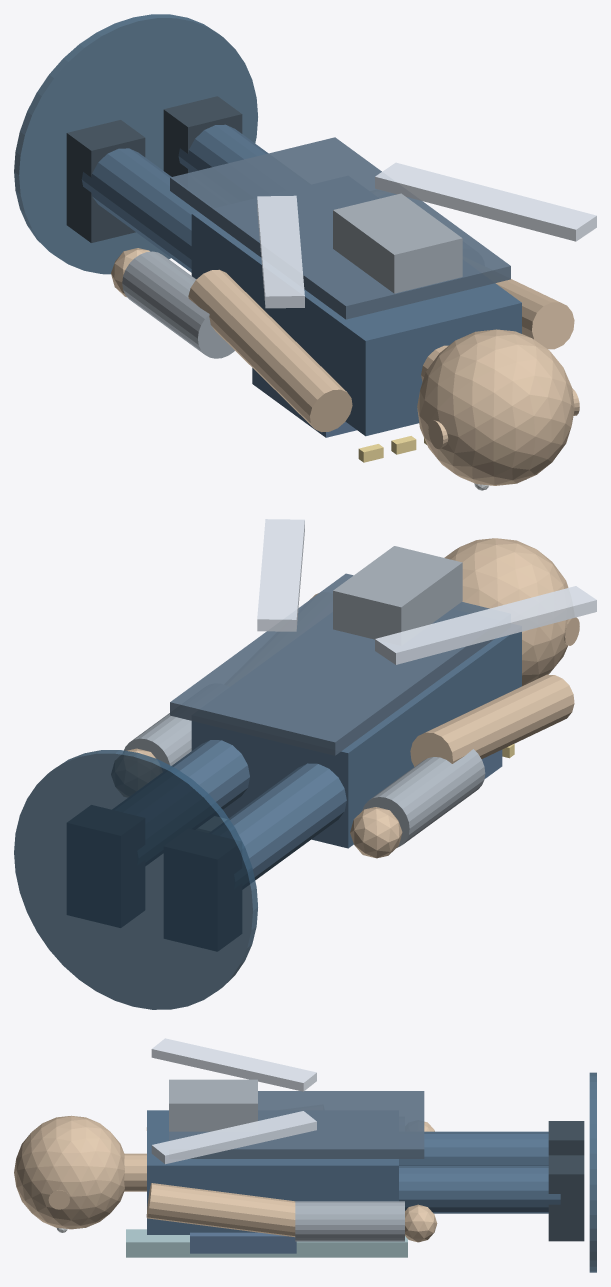
Rendered from SW_NPC_020_tavi_glasswake.glb.
The picture shows the model from 3 angles, top to bottom: view 1: azimuth 30°, elevation 25°; view 2: azimuth 150°, elevation 25°; view 3: azimuth 270°, elevation 25°; orthographic projection. The views are drawn at different scales.
Parts seen in each view (by area): view 1: round_base_plate, torso_uniform, storm_cloak, head, left_upper_arm, wingpack_core, left_leg, right_wing_rig, left_forearm_gauntlet, left_boot, left_wing_rig, right_boot (+4 smaller); view 2: round_base_plate, storm_cloak, torso_uniform, wingpack_core, head, left_leg, left_upper_arm, left_wing_rig, left_forearm_gauntlet, right_wing_rig, right_leg, right_forearm_gauntlet (+1 smaller); view 3: torso_uniform, storm_cloak, head, right_leg, right_upper_arm, left_leg, right_forearm_gauntlet, wingpack_core, rank_sash, right_wing_rig, left_wing_rig, right_boot (+6 smaller).
Boxes of the visible parts, x1=… form: round_base_plate: x1=14, y1=14, x2=257, y2=274; torso_uniform: x1=191, y1=212, x2=521, y2=436; storm_cloak: x1=170, y1=137, x2=510, y2=319; head: x1=417, y1=329, x2=574, y2=485; left_upper_arm: x1=188, y1=269, x2=352, y2=432; wingpack_core: x1=333, y1=193, x2=462, y2=293; left_leg: x1=81, y1=148, x2=198, y2=272; right_wing_rig: x1=375, y1=162, x2=596, y2=241; left_forearm_gauntlet: x1=122, y1=251, x2=234, y2=358; left_boot: x1=66, y1=120, x2=145, y2=242; left_wing_rig: x1=257, y1=195, x2=304, y2=308; right_boot: x1=163, y1=96, x2=242, y2=176; round_base_plate: x1=14, y1=750, x2=257, y2=1009; storm_cloak: x1=170, y1=573, x2=494, y2=755; torso_uniform: x1=191, y1=631, x2=521, y2=848; wingpack_core: x1=333, y1=546, x2=462, y2=639; head: x1=444, y1=538, x2=568, y2=686; left_leg: x1=229, y1=763, x2=346, y2=879; left_upper_arm: x1=410, y1=674, x2=574, y2=766; left_wing_rig: x1=375, y1=586, x2=596, y2=664; left_forearm_gauntlet: x1=362, y1=749, x2=485, y2=847; right_wing_rig: x1=257, y1=519, x2=304, y2=631; right_leg: x1=171, y1=740, x2=249, y2=809; right_forearm_gauntlet: x1=124, y1=713, x2=191, y2=765; torso_uniform: x1=147, y1=1110, x2=398, y2=1234; storm_cloak: x1=169, y1=1091, x2=424, y2=1158; head: x1=14, y1=1115, x2=124, y2=1229; right_leg: x1=399, y1=1166, x2=560, y2=1213; right_upper_arm: x1=146, y1=1183, x2=295, y2=1237; left_leg: x1=399, y1=1131, x2=548, y2=1165; right_forearm_gauntlet: x1=295, y1=1201, x2=404, y2=1241; wingpack_core: x1=169, y1=1079, x2=257, y2=1131; rank_sash: x1=126, y1=1229, x2=407, y2=1257; right_wing_rig: x1=151, y1=1111, x2=316, y2=1164; left_wing_rig: x1=151, y1=1038, x2=316, y2=1091; right_boot: x1=548, y1=1155, x2=584, y2=1241.
Bounding box in the file's own units: 1.05 × 0.756 × 2.2.
